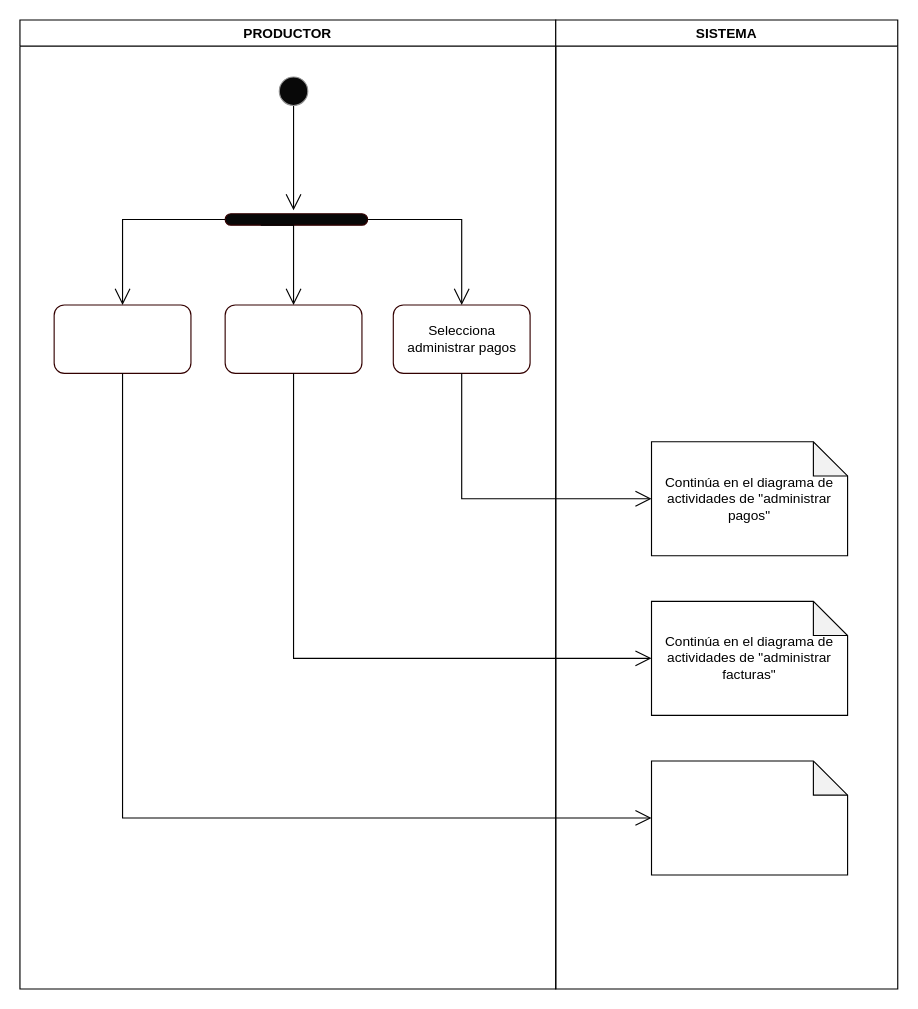
The diagram is 918 pixels wide and 1009 high, and some of its shapes have lost their labels. The shapes that lost their labels are listed below. From the top down, each one's centre as x and y in pixels, then its label:
the point at 122,338: Selecciona administrar pedidos
the point at 293,338: Selecciona administrar facturas
the point at 749,817: Continúa en el diagrama de actividades de "administrar pedidos"
